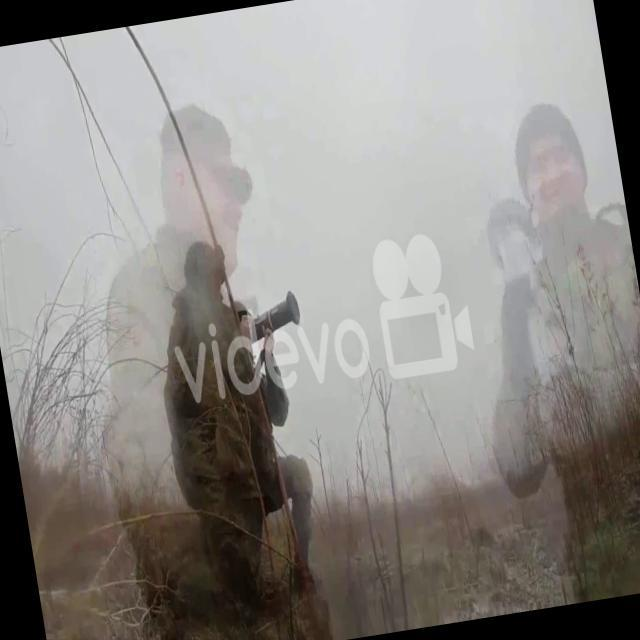rocket: (250, 295, 303, 338)
